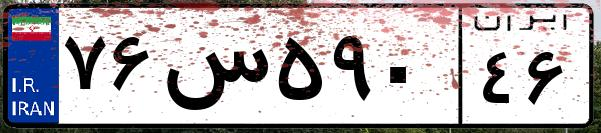0: (385, 28, 445, 110)
4: (475, 38, 525, 113)
5: (270, 28, 330, 110)
6: (525, 38, 570, 115), (110, 28, 158, 98)
7: (57, 26, 110, 100)
9: (330, 28, 385, 110)
س: (158, 20, 270, 120)
